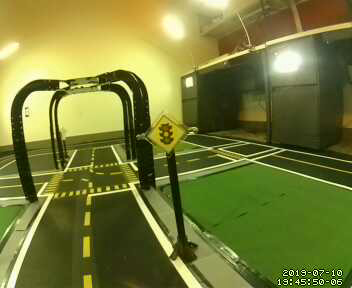Traffic light sign: (146, 114, 184, 154)
